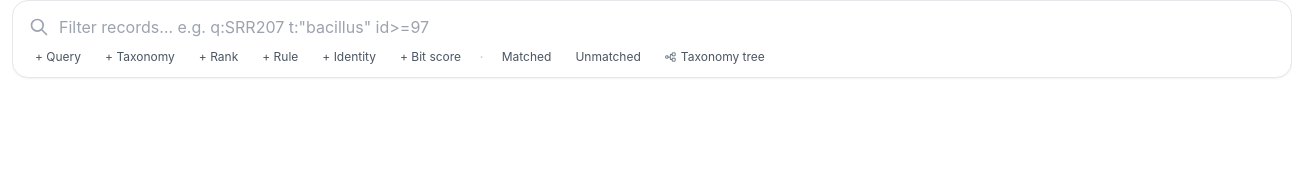
FilterBar value suggestions › text typed before the key is committed together with the pick
Step 1. Type "id>=97 rule:" into the dropdown labelled "Filter records" → (666, 27), box [57, 13, 1275, 41]
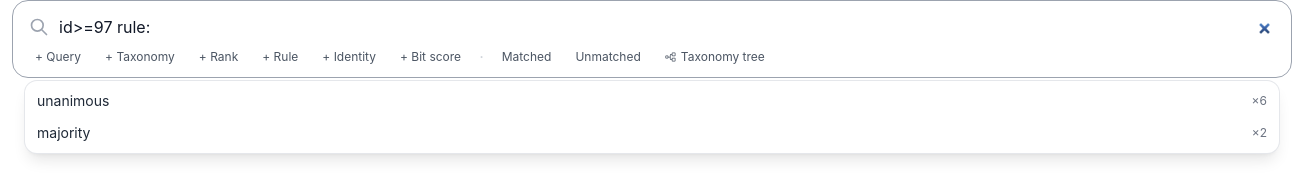
Step 2. Click the option "majority ×2" → click(64, 132), box [37, 124, 1267, 141]
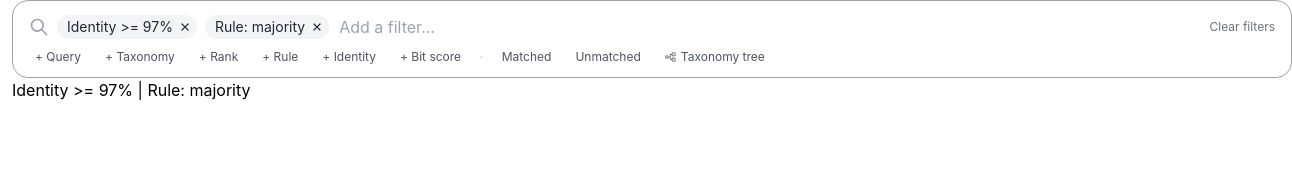
Expected: the text with test id "tokens" reads "Identity >= 97% | Rule: majority", [12, 80, 250, 100]
